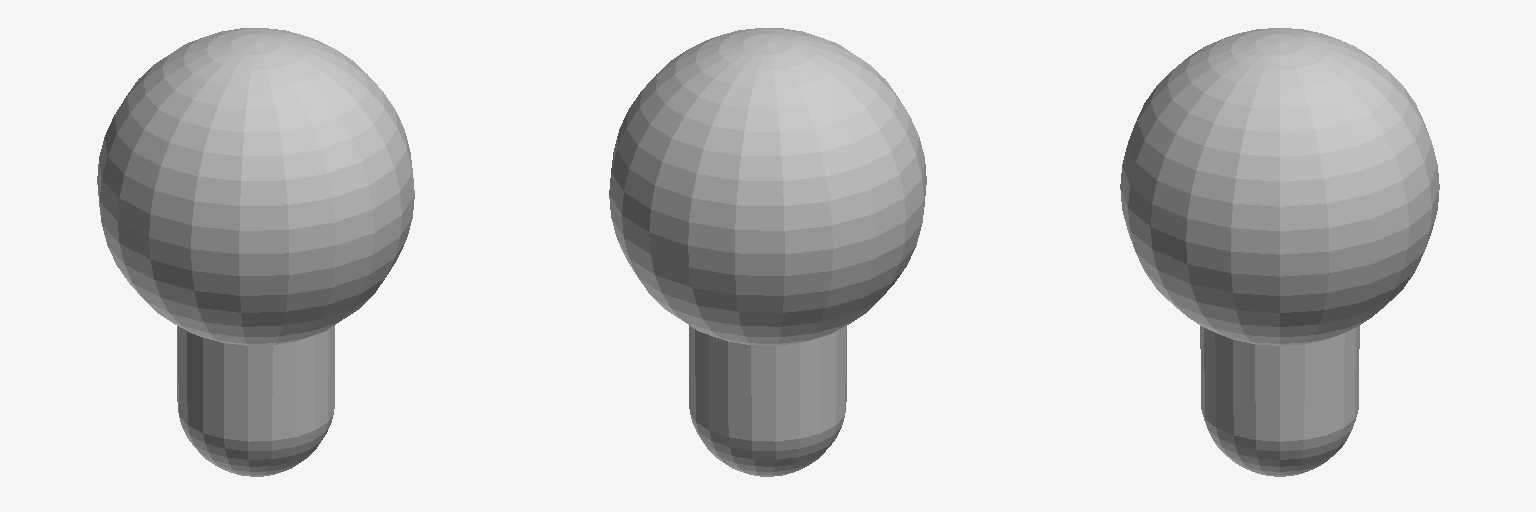
File: PuffBod.obj
The picture shows the model from 3 angles: view 1: azimuth 30°, elevation 25°; view 2: azimuth 150°, elevation 25°; view 3: azimuth 270°, elevation 25°; orthographic projection.
Parts seen in each view (by area): view 1: pSphere6; view 2: pSphere6; view 3: pSphere6.
Part boxes in pixels (x1,y1,x2,y2): pSphere6: (97, 28, 414, 476); pSphere6: (609, 28, 926, 476); pSphere6: (1120, 28, 1439, 476).
Bounding box in the file's own units: 1.96 × 2.89 × 1.96.